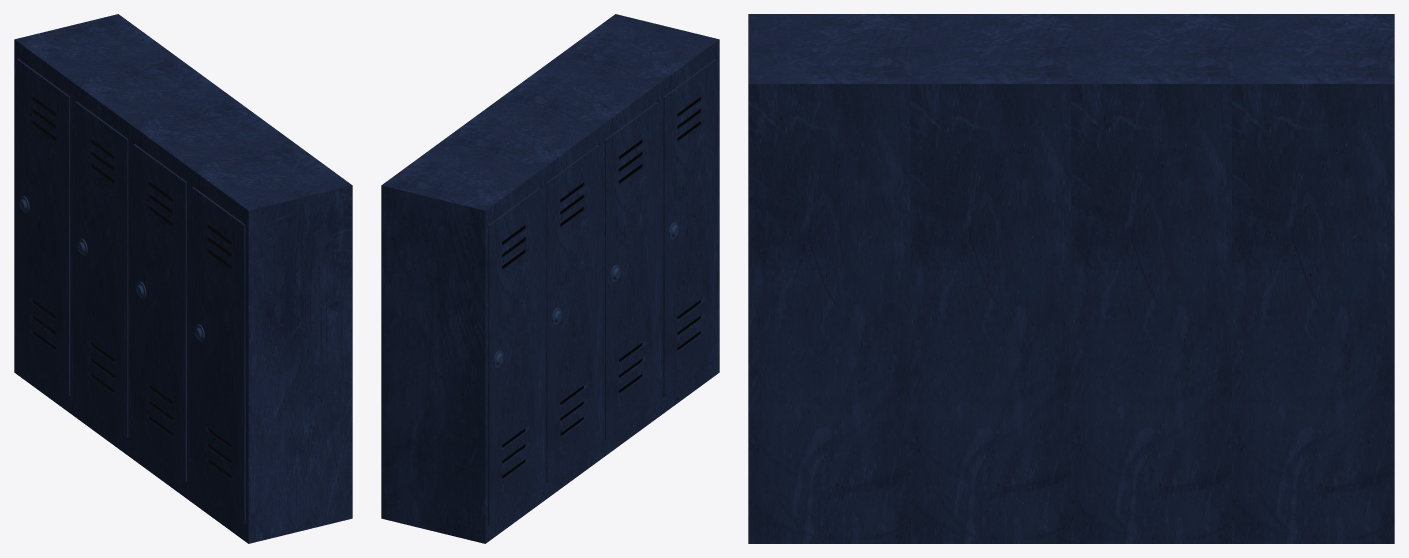
The model's file is lockers.fbx.
3 views of the same model, side by side, from view 1: azimuth 30°, elevation 25°; view 2: azimuth 150°, elevation 25°; view 3: azimuth 270°, elevation 25° (orthographic). The views are drawn at different scales.
Parts seen in each view (by area): view 1: door.011; view 2: door.011; view 3: door.011.
Boxes of the visible parts, box(x1,y1,x2,y2) form: door.011: box(14, 14, 352, 543); door.011: box(381, 14, 719, 543); door.011: box(748, 14, 1394, 543).
Size of the model in its own units: 84.98 by 250 by 318.
3 materials, 1 textured.
